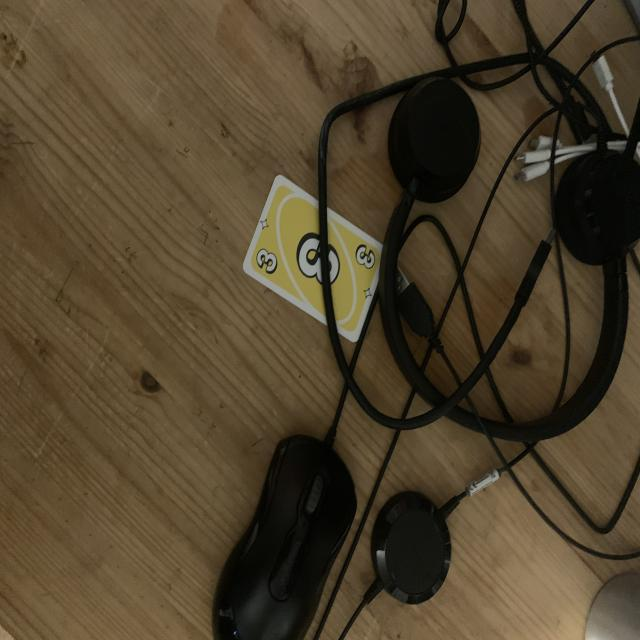lyellow-3: (253, 246, 281, 280)
